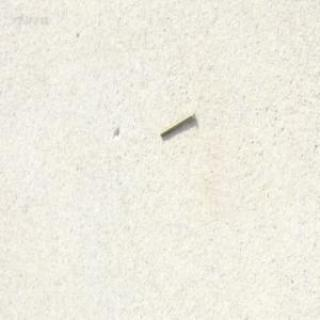Bolttrack_idkeyframe: (158, 107, 194, 138)
